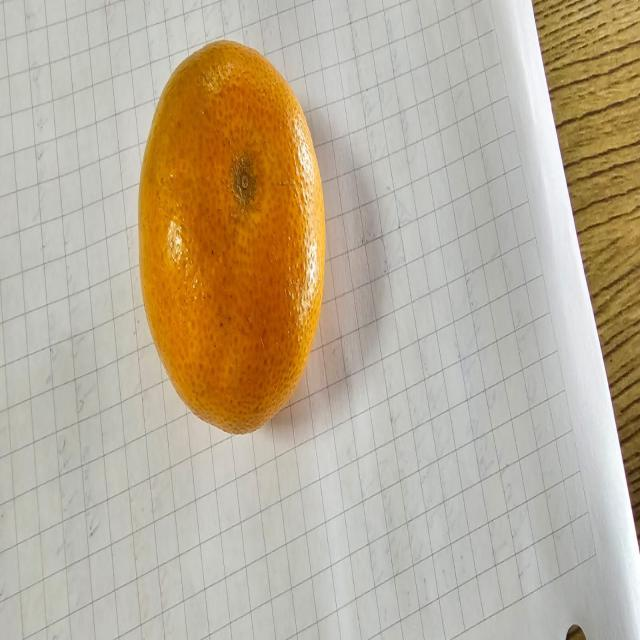Jeruk Mandarin: (136, 33, 328, 439)
